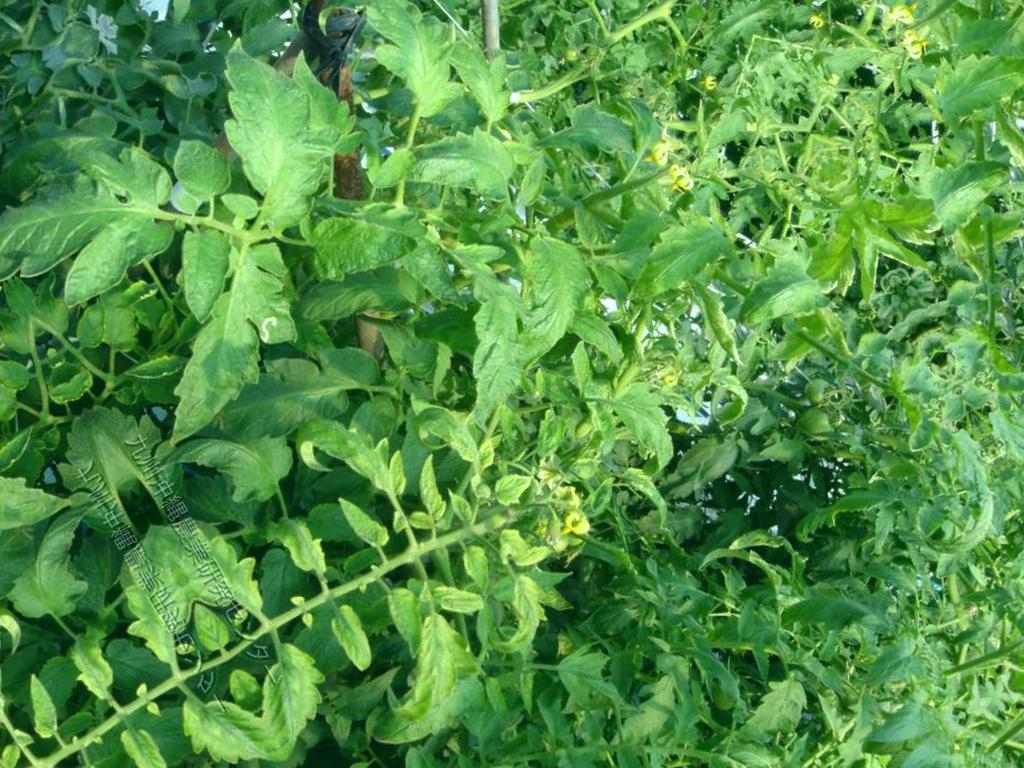Tomato leaf yellow virus: (0, 82, 217, 327), (100, 238, 338, 460), (187, 41, 379, 252), (397, 252, 572, 451), (473, 217, 625, 383), (347, 607, 495, 756), (328, 0, 488, 137), (594, 195, 749, 331), (287, 387, 422, 525), (419, 0, 540, 149), (237, 633, 368, 768), (153, 495, 274, 634), (466, 568, 576, 673), (600, 368, 699, 484), (358, 567, 452, 671), (256, 500, 346, 600), (323, 480, 403, 569), (316, 596, 388, 685), (480, 460, 548, 527)
